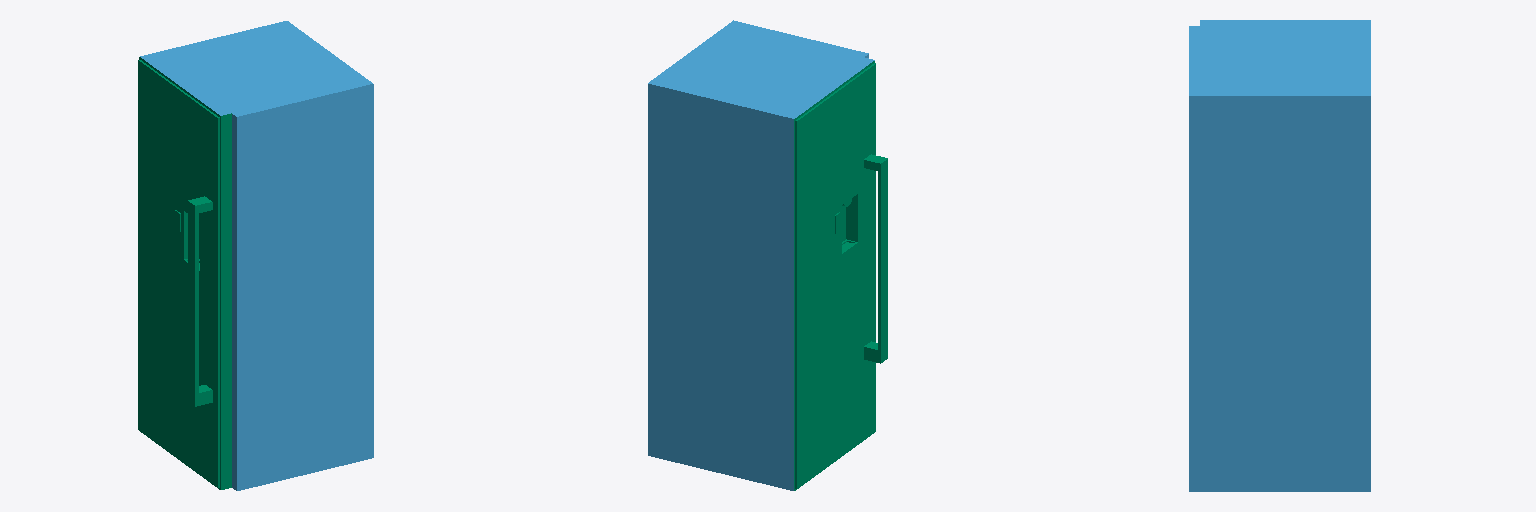
The robot description file, URDF, robot "partnet_827c9a85df258dd8faf0b97ff18d3546":
<?xml version="1.0" ?>
<robot name="partnet_827c9a85df258dd8faf0b97ff18d3546">
	<link name="base"/>
	<link name="link_0">
		<visual name="frame-2">
			<origin xyz="0 0 0"/>
			<geometry>
				<mesh filename="textured_objs/new-1.obj"/>
			</geometry>
		</visual>
		<collision>
			<origin xyz="0 0 0"/>
			<geometry>
				<mesh filename="textured_objs/new-1.obj"/>
			</geometry>
		</collision>
	</link>
	<joint name="joint_0" type="fixed">
		<origin rpy="1.570796326794897 0 -1.570796326794897" xyz="0 0 0"/>
		<child link="link_0"/>
		<parent link="base"/>
	</joint>
	<link name="link_1">
		<visual name="door_frame-4">
			<origin xyz="0.35772413303425465 -0.8684249999999998 -0.3193075089101187"/>
			<geometry>
				<mesh filename="textured_objs/new-2.obj"/>
			</geometry>
		</visual>
		<visual name="handle-5">
			<origin xyz="0.35772413303425465 -0.8684249999999998 -0.3193075089101187"/>
			<geometry>
				<mesh filename="textured_objs/new-0.obj"/>
			</geometry>
		</visual>
		<collision>
			<origin xyz="0.35772413303425465 -0.8684249999999998 -0.3193075089101187"/>
			<geometry>
				<mesh filename="textured_objs/new-2.obj"/>
			</geometry>
		</collision>
		<collision>
			<origin xyz="0.35772413303425465 -0.8684249999999998 -0.3193075089101187"/>
			<geometry>
				<mesh filename="textured_objs/new-0.obj"/>
			</geometry>
		</collision>
	</link>
	<joint name="joint_1" type="revolute">
		<origin xyz="-0.35772413303425465 0.8684249999999998 0.3193075089101187"/>
		<axis xyz="0 -1 0"/>
		<child link="link_1"/>
		<parent link="link_0"/>
		<limit lower="0.0" upper="3.141592653589793"/>
	</joint>
</robot>

--- What the picture shows (computed from the rendered views, not written in the file) ---
The picture shows the robot from 3 angles, left to right: view 1: azimuth 30°, elevation 25°; view 2: azimuth 150°, elevation 25°; view 3: azimuth 270°, elevation 25°; orthographic projection.
Model partnet_827c9a85df258dd8faf0b97ff18d3546 with 3 links and 2 joints (1 revolute, 1 fixed), rooted at base, posed all joints at 0.
Visible links, largest first — view 1: link_0, link_1; view 2: link_0, link_1; view 3: link_0.
Link boxes in pixels (x1,y1,x2,y2): link_0: [140, 21, 373, 490]; link_1: [138, 57, 231, 489]; link_0: [648, 20, 874, 490]; link_1: [794, 61, 887, 490]; link_0: [1189, 20, 1370, 491].
Bounding box of the posed robot: 0.8179 × 0.7324 × 1.75 m (x, y, z).
3 mesh visuals loaded from 3 distinct referenced files (3 OBJ).